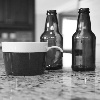beer: (72, 6, 97, 69)
